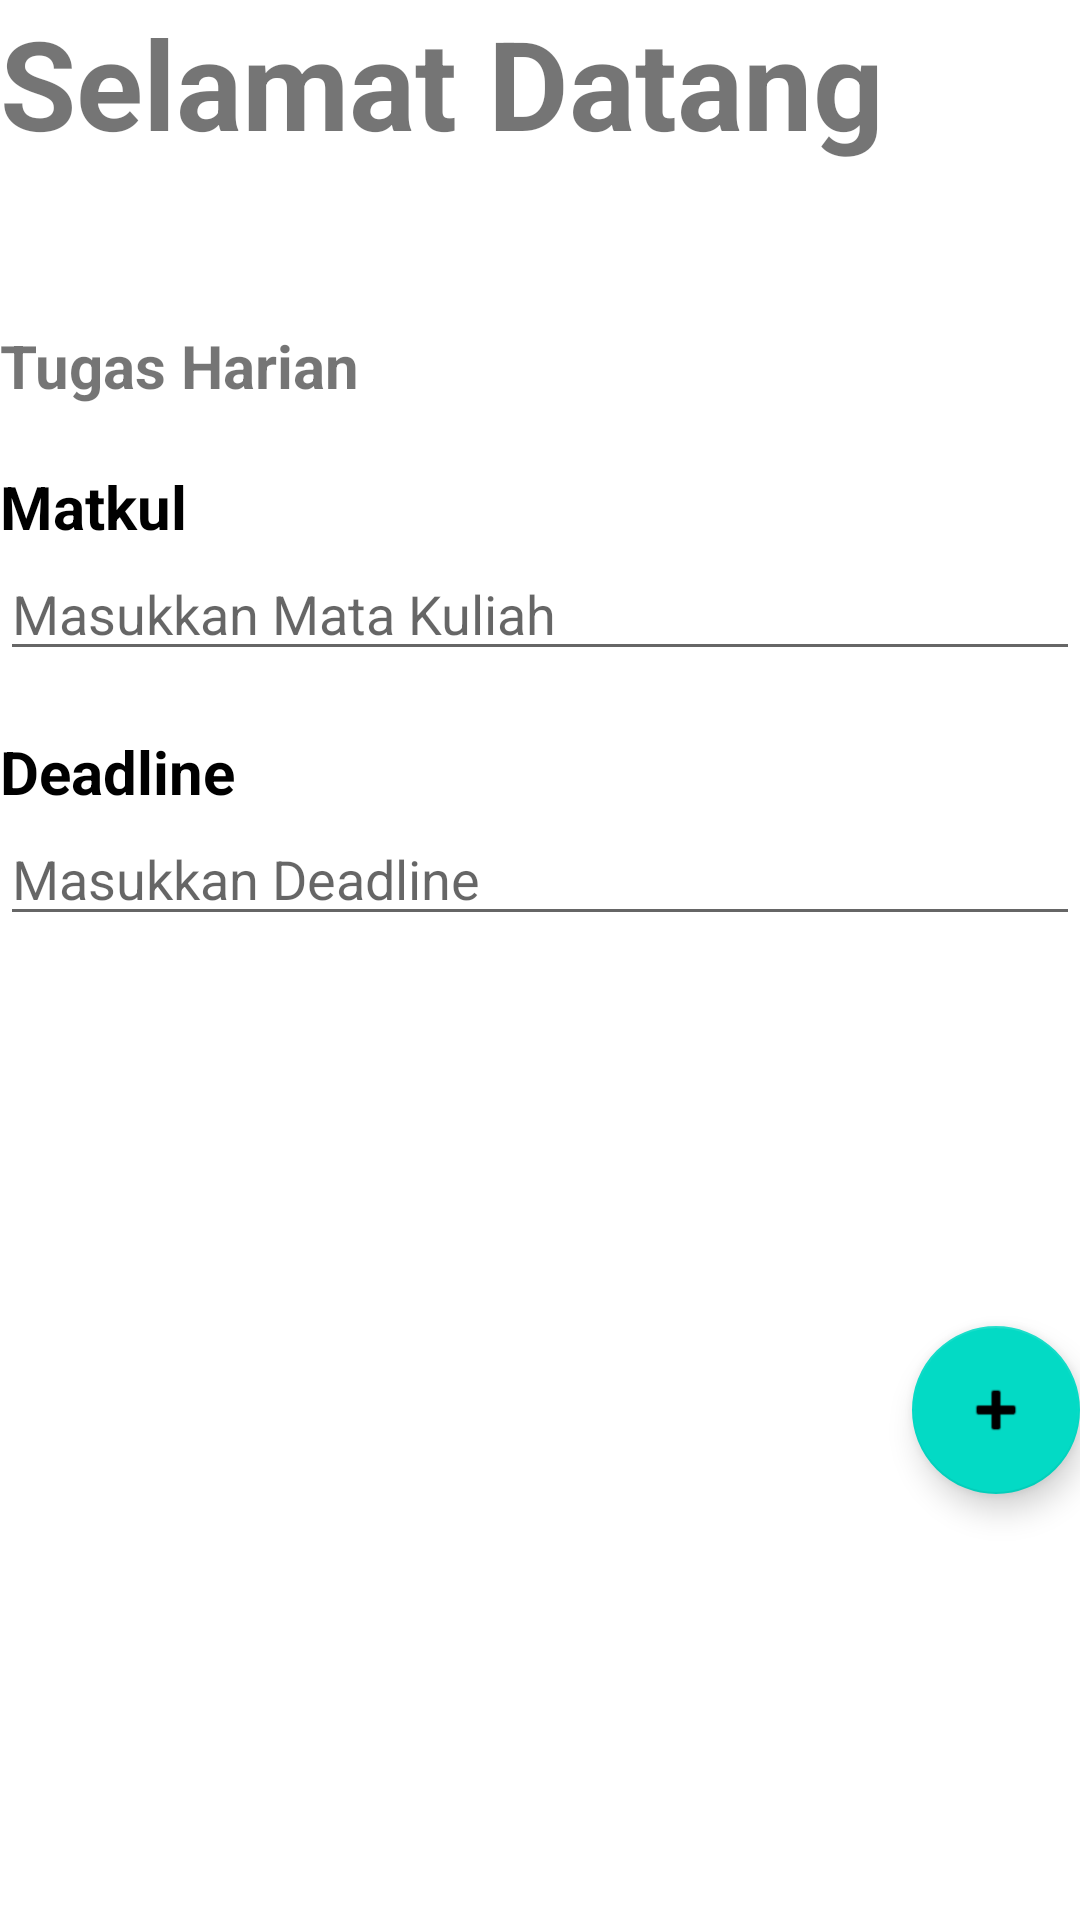

Screen size 1080px x 1920px. Icon name, then its center in pixels as point (x, y):
add: point (996, 1410)
